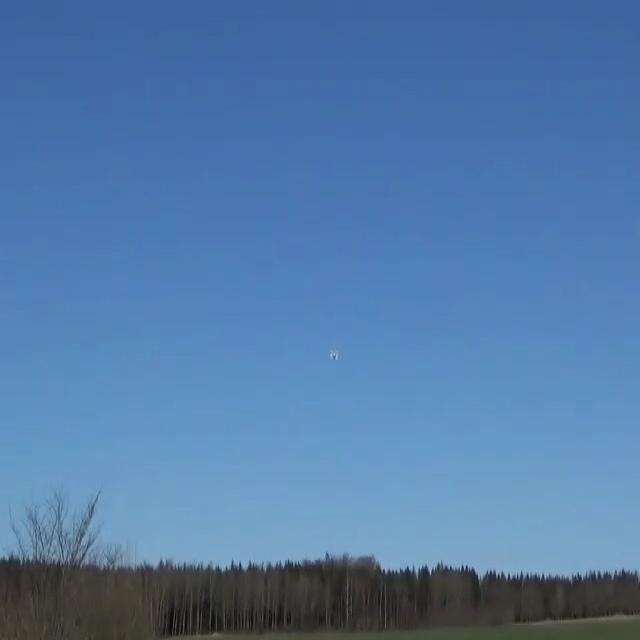drone: (329, 351, 339, 362)
